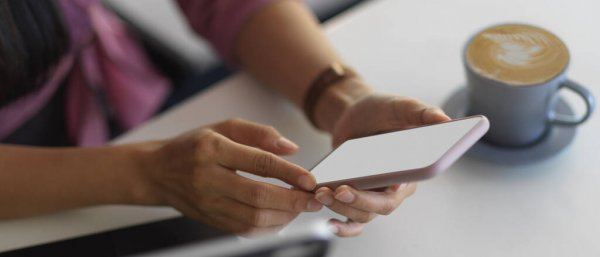Cell Phone: (297, 116, 490, 191)
